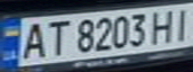0: (112, 12, 133, 50)
2: (93, 14, 115, 52)
3: (127, 10, 151, 47)
8: (72, 16, 96, 53)
A: (15, 19, 51, 60)
H: (148, 7, 178, 44)
I: (169, 4, 193, 42)
T: (39, 18, 72, 57)
